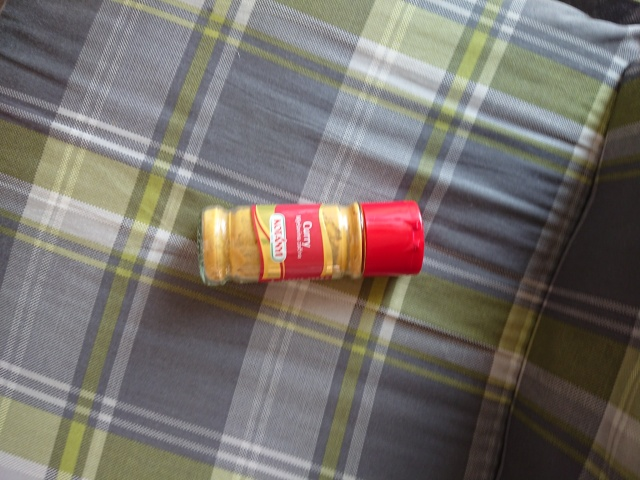Kotanyi Curry Spices Mix 70g: (195, 198, 426, 289)
